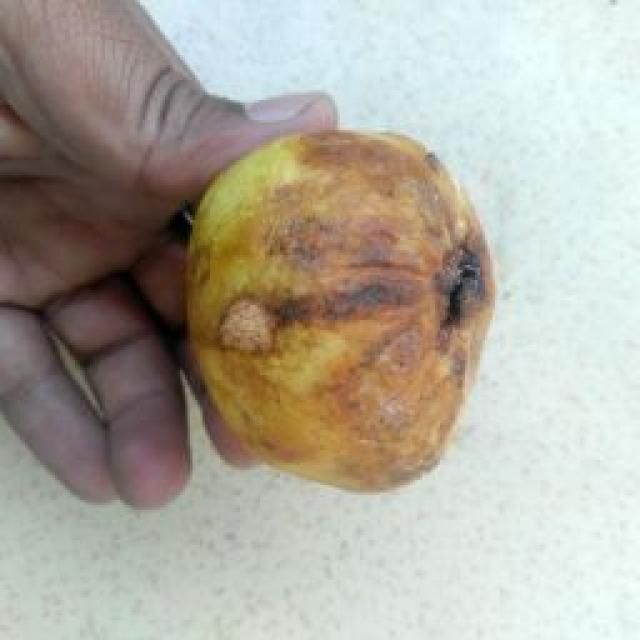Organik: (187, 118, 507, 520)
